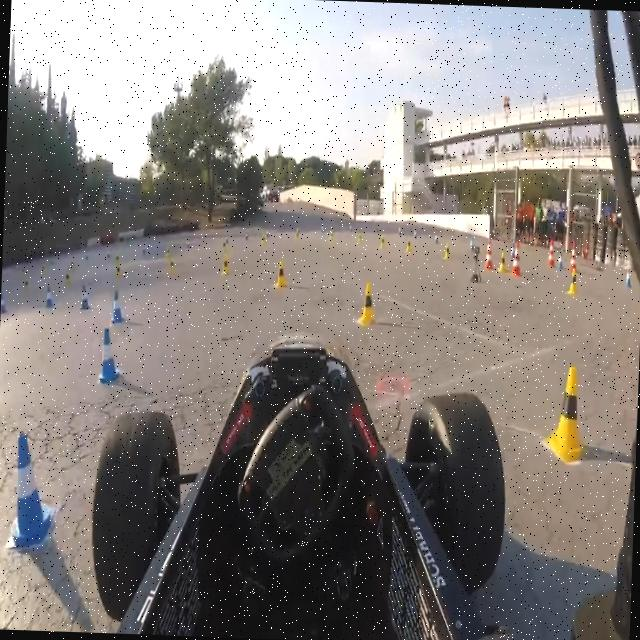blue_cone: (0, 431, 58, 553), (95, 328, 124, 386), (106, 287, 125, 326), (76, 284, 90, 312), (45, 284, 55, 310), (622, 264, 632, 288), (554, 250, 564, 272), (0, 291, 10, 313), (508, 236, 516, 258), (467, 234, 474, 250), (432, 230, 439, 245), (412, 227, 417, 240)
large_orange_cone: (508, 238, 524, 279), (483, 238, 495, 272), (546, 237, 556, 269), (568, 241, 578, 273)
yellow_cone: (538, 364, 590, 468), (350, 282, 378, 332), (272, 256, 288, 290), (564, 266, 581, 297), (220, 252, 231, 278), (496, 252, 508, 274), (441, 242, 451, 264), (167, 256, 176, 280), (403, 238, 412, 254), (378, 233, 386, 251), (114, 262, 122, 280), (64, 270, 72, 288), (260, 232, 266, 248), (114, 253, 120, 267), (328, 229, 334, 242)
